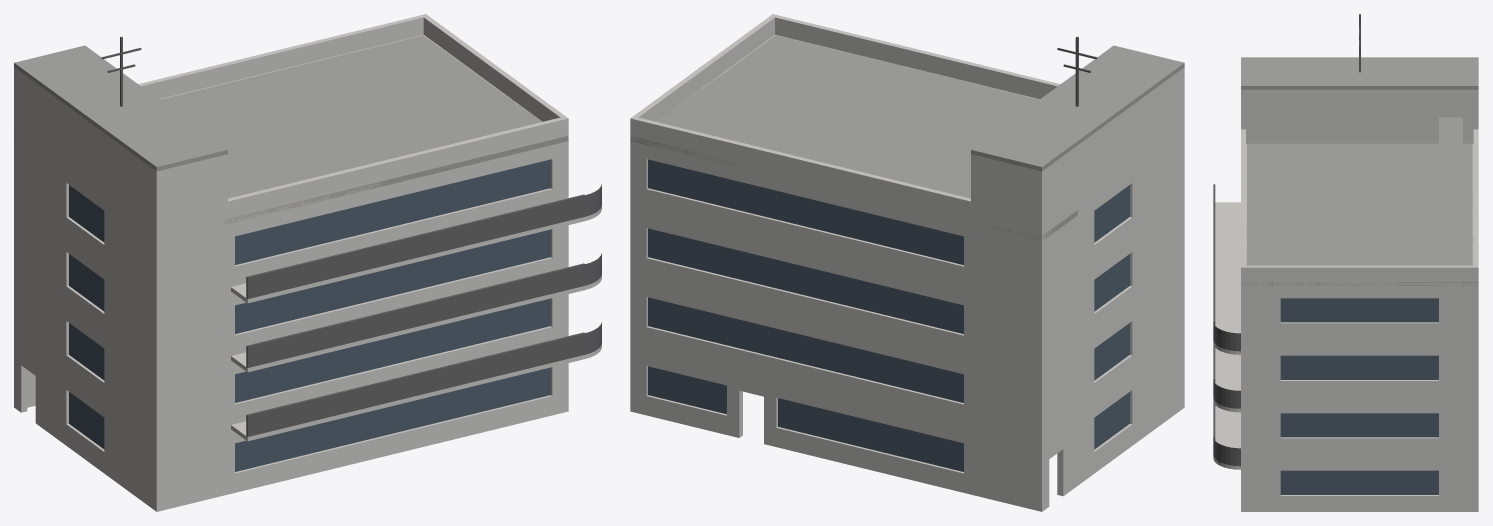
File: apartment.lod1.glb
3 renders of one model, left to right at view 1: azimuth 30°, elevation 25°; view 2: azimuth 150°, elevation 25°; view 3: azimuth 270°, elevation 25°, orthographic. The views are drawn at different scales.
Visible parts, largest first — view 1: apartment; view 2: apartment; view 3: apartment.
Part boxes in pixels (left/top/right/bottom): apartment: left=14, top=14, right=601, bottom=511; apartment: left=630, top=14, right=1184, bottom=511; apartment: left=1213, top=14, right=1478, bottom=511.
Bounding box in the file's own units: 21.4 × 19.2 × 13.4.
